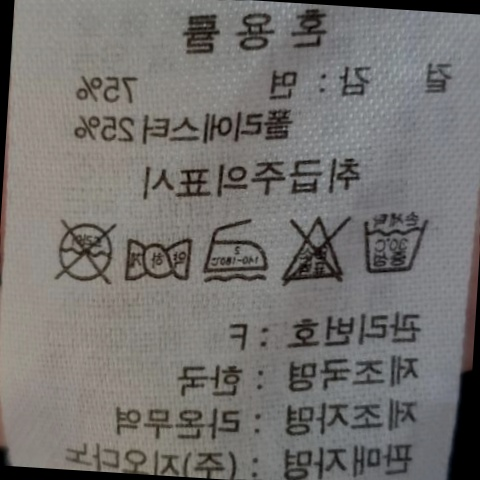DN_dry_clean: (46, 211, 122, 291)
hand_wash: (354, 208, 436, 282)
iron_medium: (199, 213, 271, 283)
non_chlorine_bleach: (269, 206, 354, 294)
wring: (119, 227, 198, 291)
